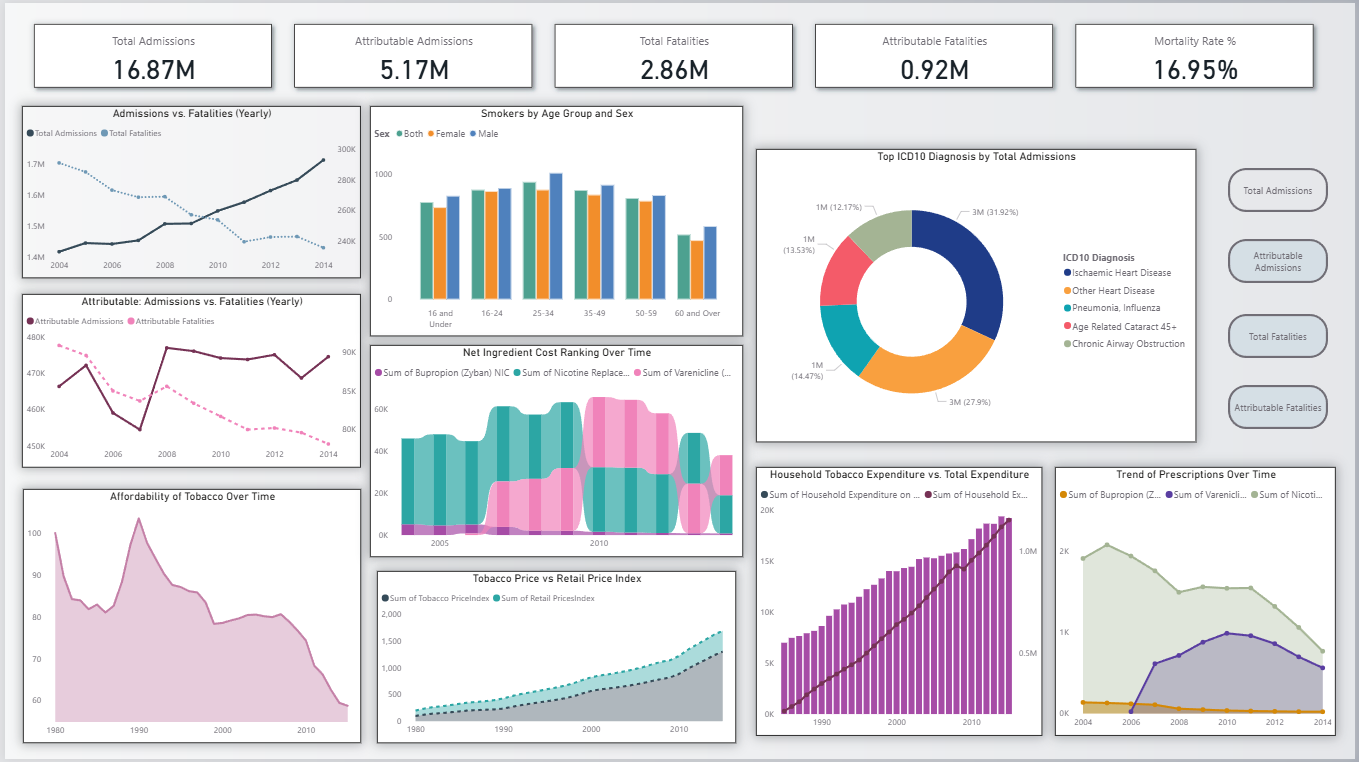

This screenshot's page, from the dashboard's own definition file:
{"tool":"powerbi","page":{"name":"Page 1","canvas":[1929,1080],"ordinal":0},"visuals":[{"type":"group","id":"g1","title":"total admissions view","box":[1072.9,208.6,817.1,418.6],"z":0},{"type":"donutChart","title":"Top ICD10 Diagnosis by Total Admissions","fields":{"Category":["admissions.ICD10 Diagnosis"],"Y":["admissions.Total Admissions"]},"box":[1072.9,208.6,628.6,418.6],"z":0,"group":"g1"},{"type":"actionButton","box":[1747.2,235.7,142.9,62.9],"z":1000,"group":"g1"},{"type":"actionButton","box":[1747.2,444.3,142.9,62.9],"z":2000,"group":"g1"},{"type":"actionButton","box":[1747.2,337.2,142.9,62.9],"z":3000,"group":"g1"},{"type":"cardVisual","fields":{"Data":["admissions.Total Admissions","admissions.Attributable Admissions","fatalities.Total Fatalities","fatalities.Attributable Fatalities","fatalities.Mortality Rate %"]},"box":[24.3,12.9,1865.7,125.7],"z":4000},{"type":"actionButton","box":[1747.2,545.7,142.9,62.9],"z":4000,"group":"g1"},{"type":"lineChart","title":"Admissions vs. Fatalities (Yearly)","fields":{"Y2":["fatalities.Total Fatalities"],"Y":["admissions.Total Admissions"],"Category":["DateTable.Date.Variation.Date Hierarchy.Year"]},"box":[23.9,147.8,483.6,246.3],"z":5000},{"type":"lineChart","title":"Attributable: Admissions vs. Fatalities (Yearly)","fields":{"Category":["DateTable.Date.Variation.Date Hierarchy.Year"],"Y2":["fatalities.Attributable Fatalities"],"Y":["admissions.Attributable Admissions"]},"box":[23.9,416.4,483.6,247.8],"z":6000},{"type":"clusteredColumnChart","title":"Smokers by Age Group and Sex","fields":{"Category":["smokers.Age Group"],"Series":["smokers.Sex"],"Y":["Sum(smokers.Value)"]},"box":[521.4,147.1,532.9,328.6],"z":7000},{"type":"areaChart","title":"Affordability of Tobacco Over Time","fields":{"Category":["metrics.Year.Variation.Date Hierarchy.Year"],"Y":["Sum(metrics.Affordability of Tobacco Index)"]},"box":[25.7,694.3,482.9,362.9],"z":8000},{"type":"ribbonChart","title":"Net Ingredient Cost Ranking Over Time","fields":{"Y":["Sum(prescriptions.Net Ingredient Cost of Bupropion (Zyban))","Sum(prescriptions.Net Ingredient Cost of Nicotine Replacement Therapies (NRT))","Sum(prescriptions.Net Ingredient Cost of Varenicline (Champix))"],"Category":["prescriptions.Year.Variation.Date Hierarchy.Year"]},"box":[521.4,488.6,532.9,302.9],"z":9000},{"type":"lineClusteredColumnComboChart","title":"Household Tobacco Expenditure vs. Total Expenditure","fields":{"Y":["Sum(metrics.Household Expenditure on Tobacco)"],"Y2":["Sum(metrics.Household Expenditure Total)"],"Category":["metrics.Year.Variation.Date Hierarchy.Year"]},"box":[1072.9,662.9,408.6,384.3],"z":10000},{"type":"stackedAreaChart","title":"Tobacco Price vs Retail Price Index","fields":{"Y":["Sum(metrics.Tobacco PriceIndex)","Sum(metrics.Retail PricesIndex)"],"Category":["metrics.Year.Variation.Date Hierarchy.Year"]},"box":[531.4,811.4,512.9,245.7],"z":11000},{"type":"areaChart","title":"Trend of Prescriptions Over Time","fields":{"Y":["Sum(prescriptions.Bupropion (Zyban) Prescriptions)","Sum(prescriptions.Varenicline (Champix) Prescriptions)","Sum(prescriptions.Nicotine Replacement Therapy (NRT) Prescriptions)"],"Category":["prescriptions.Year.Variation.Date Hierarchy.Year"]},"box":[1500,662.9,401.4,384.3],"z":12000}]}

Visuals, with their boxes in screenshot pixels (x1, y1, x2, y2), scaled from the page's 1929x1080 canvas onto the 1359x762 screenshot:
"total admissions view" group: l=756, t=147, r=1332, b=443
"Top ICD10 Diagnosis by Total Admissions" donutChart: l=756, t=147, r=1199, b=443
actionButton: l=1231, t=166, r=1332, b=211
actionButton: l=1231, t=313, r=1332, b=358
actionButton: l=1231, t=238, r=1332, b=282
cardVisual - admissions.Total Admissions x admissions.Attributable Admissions: l=17, t=9, r=1332, b=98
actionButton: l=1231, t=385, r=1332, b=429
"Admissions vs. Fatalities (Yearly)" lineChart: l=17, t=104, r=358, b=278
"Attributable: Admissions vs. Fatalities (Yearly)" lineChart: l=17, t=294, r=358, b=469
"Smokers by Age Group and Sex" clusteredColumnChart: l=367, t=104, r=743, b=336
"Affordability of Tobacco Over Time" areaChart: l=18, t=490, r=358, b=746
"Net Ingredient Cost Ranking Over Time" ribbonChart: l=367, t=345, r=743, b=558
"Household Tobacco Expenditure vs. Total Expenditure" lineClusteredColumnComboChart: l=756, t=468, r=1044, b=739
"Tobacco Price vs Retail Price Index" stackedAreaChart: l=374, t=572, r=736, b=746
"Trend of Prescriptions Over Time" areaChart: l=1057, t=468, r=1340, b=739
